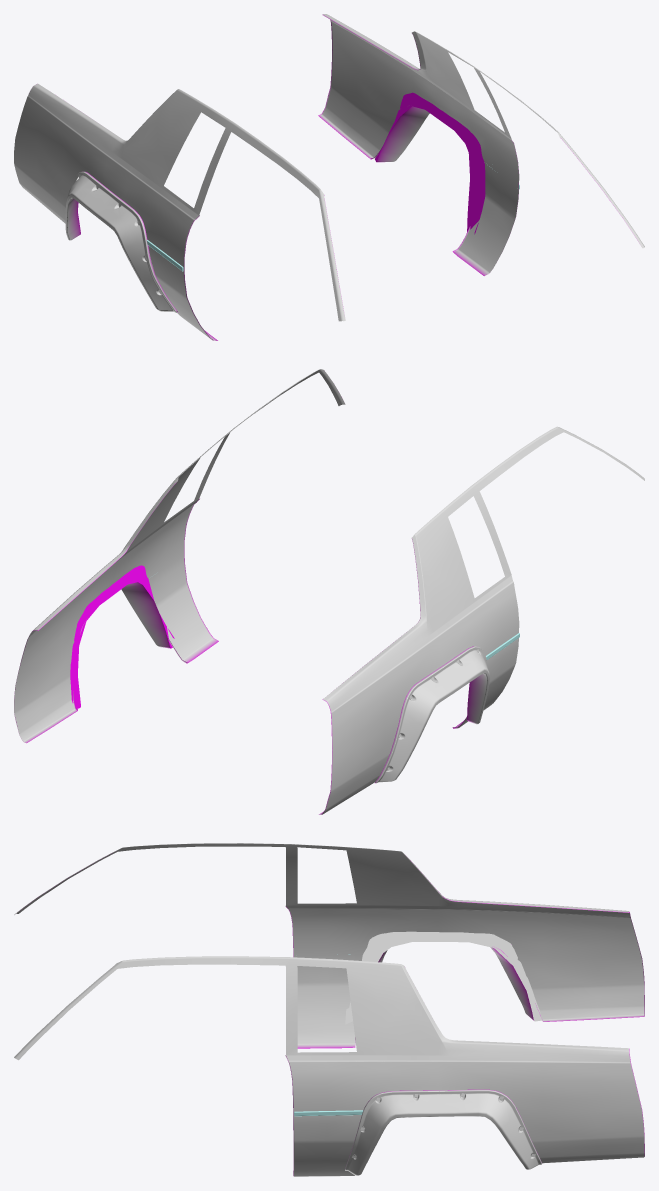
File: Car_Buick_GrandNational_1987_FendersR_SetC.fbx
3 views of the same model, one above another, from view 1: azimuth 30°, elevation 25°; view 2: azimuth 150°, elevation 25°; view 3: azimuth 270°, elevation 25° (orthographic). The views are drawn at different scales.
Visible parts, largest first — view 1: FendersR 6; view 2: FendersR 6; view 3: FendersR 6.
Part boxes in pixels (box(x1,y1,x2,y2)): FendersR 6: box(14, 14, 644, 340); FendersR 6: box(14, 369, 644, 814); FendersR 6: box(14, 843, 644, 1176).
Size of the model in its own units: 2.01 by 1.12 by 3.03.
